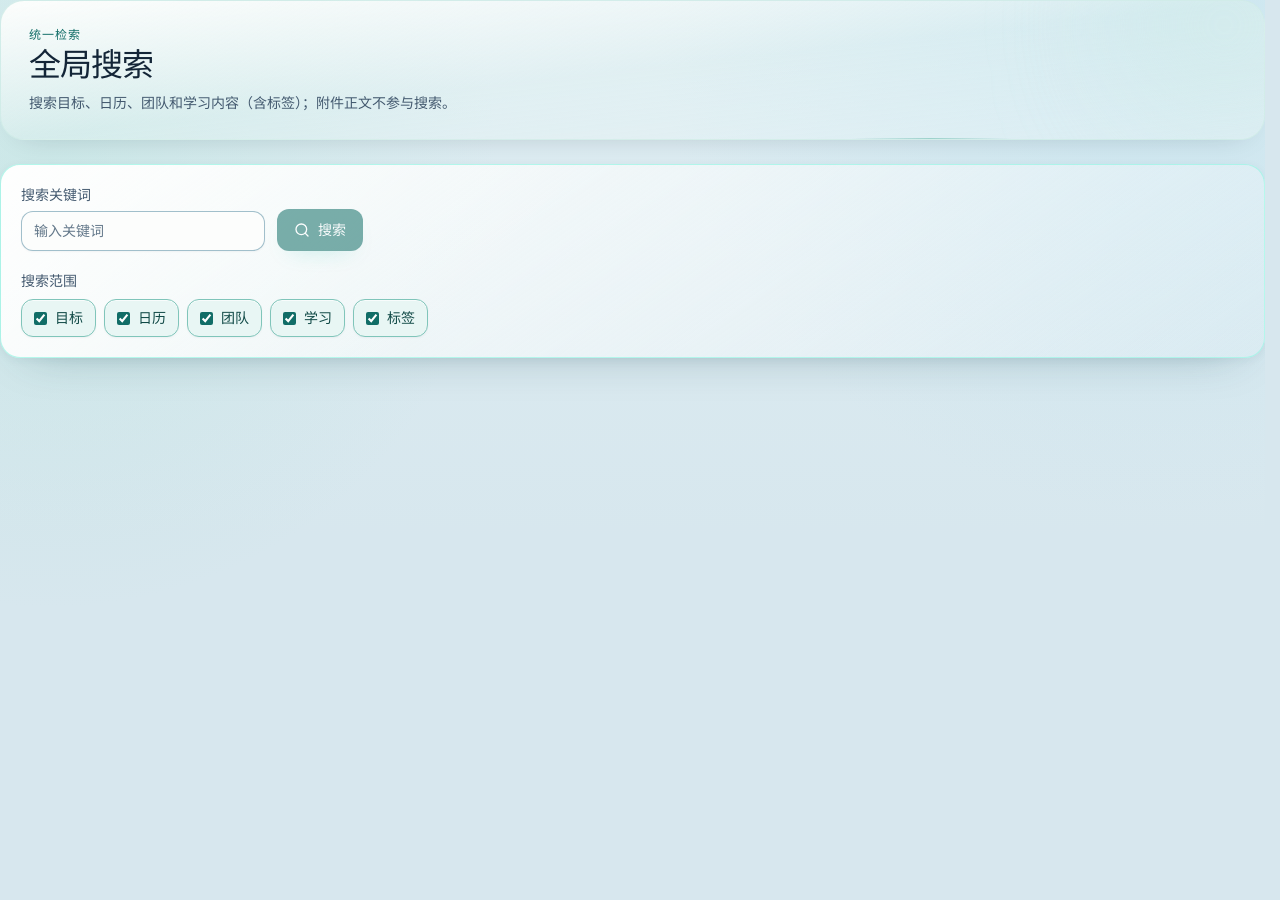
Test: SearchOverlay › uses the same one-character rule on the full search page
Expected: the button "搜索" is disabled, [277,209,363,251]
In the field labelled "搜索关键词": (143, 231) [21,211,265,251], type "钱"
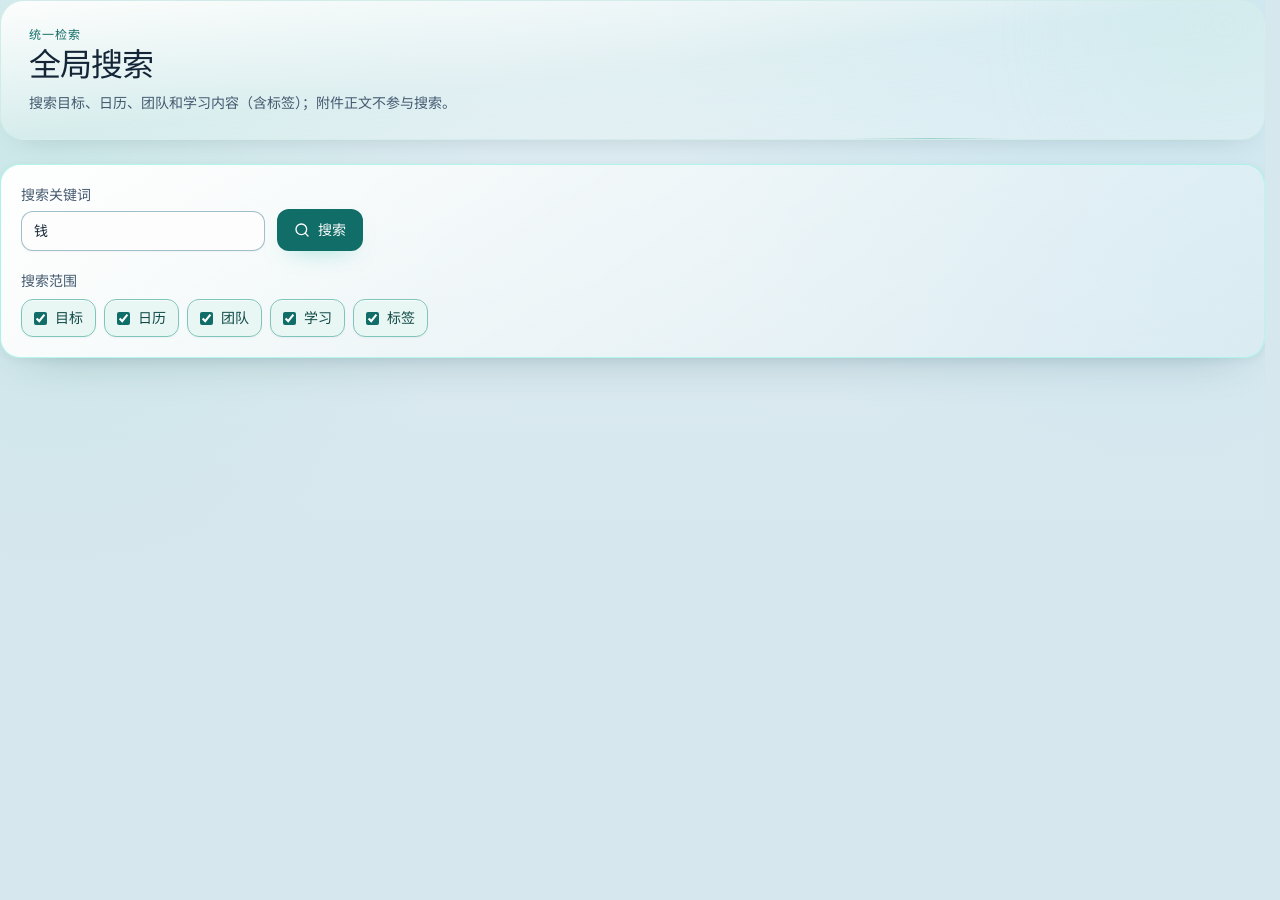
Click the button "搜索": (320, 230) [277,209,363,251]
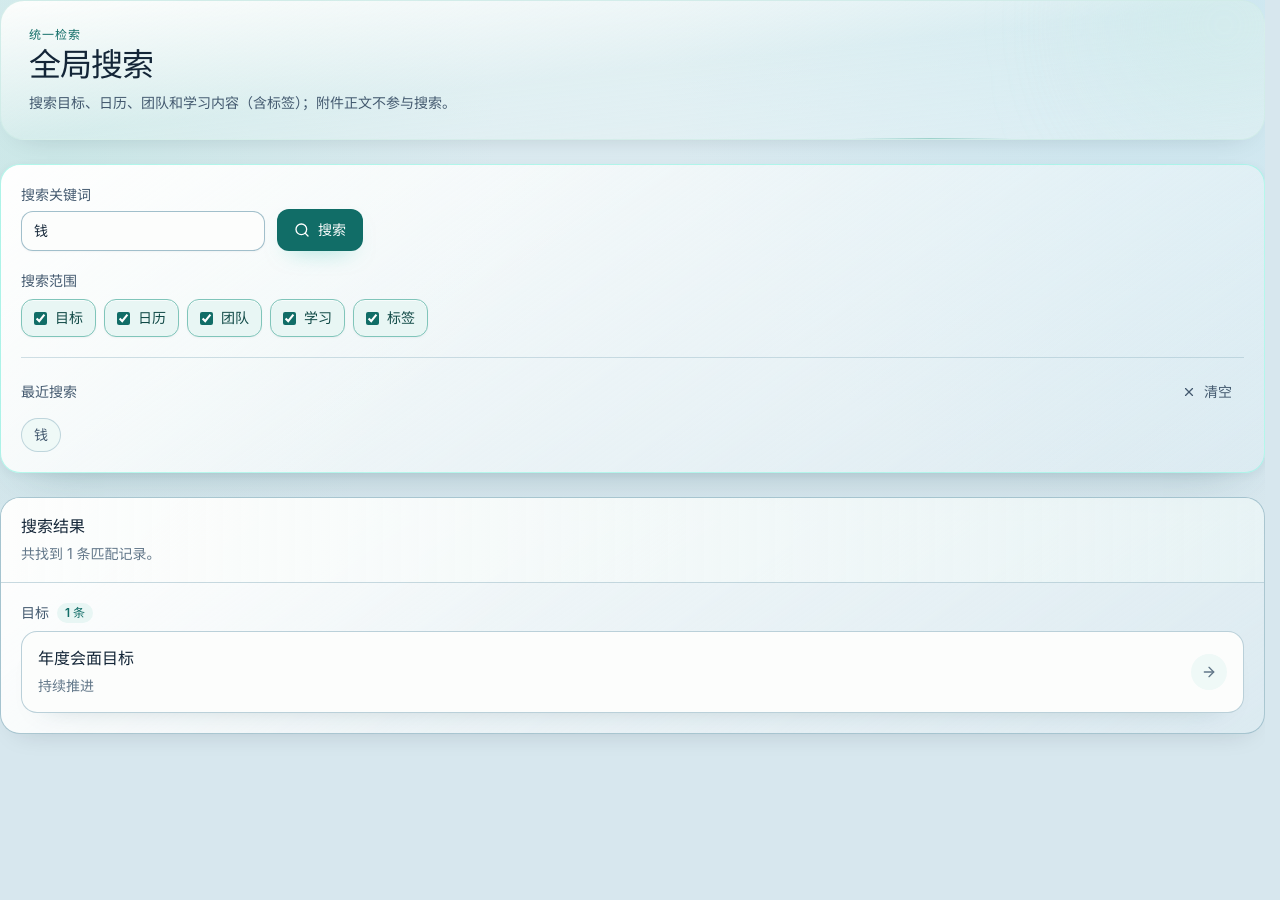
Result: the text "年度会面目标" is shown at [38,646,134,670]
